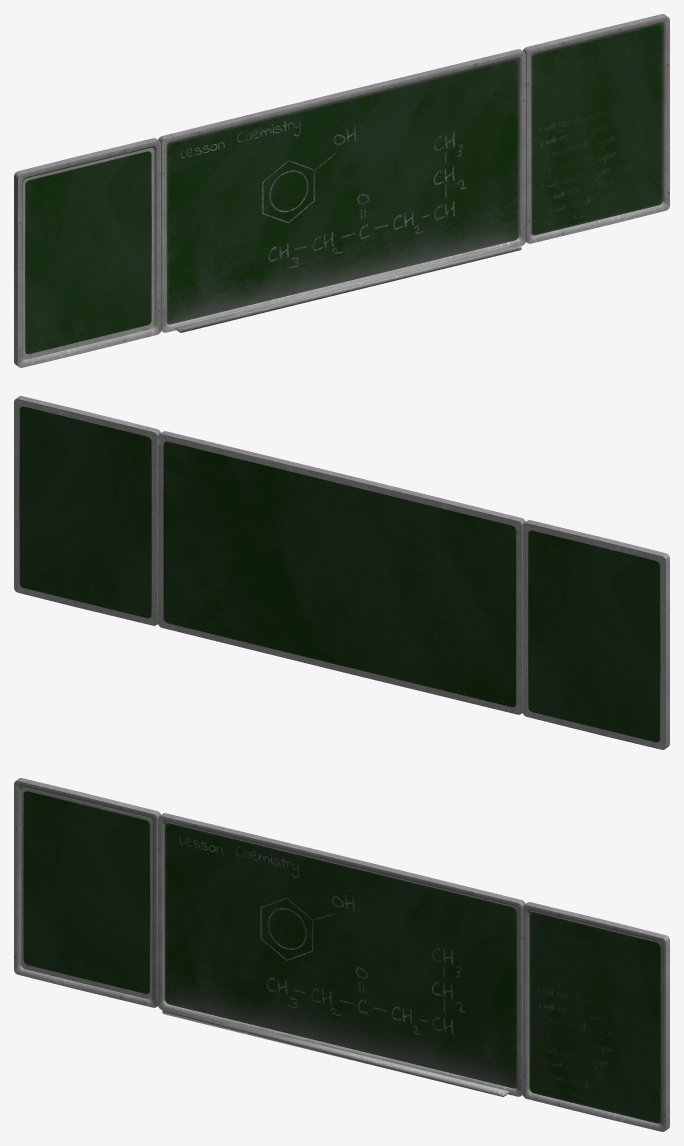
Rendered from board.glb.
3 renders of one model, top to bottom at view 1: azimuth 30°, elevation 25°; view 2: azimuth 150°, elevation 25°; view 3: azimuth 330°, elevation 25°, orthographic.
Visible parts, largest first — view 1: WallBoard_1_L; view 2: WallBoard_1_L; view 3: WallBoard_1_L.
Part boxes in pixels (left/top/right/bottom): WallBoard_1_L: left=14, top=14, right=669, bottom=367; WallBoard_1_L: left=14, top=396, right=669, bottom=749; WallBoard_1_L: left=14, top=778, right=669, bottom=1131.
Size of the model in its own units: 448 by 128 by 14.71.
1 material, 1 textured.
